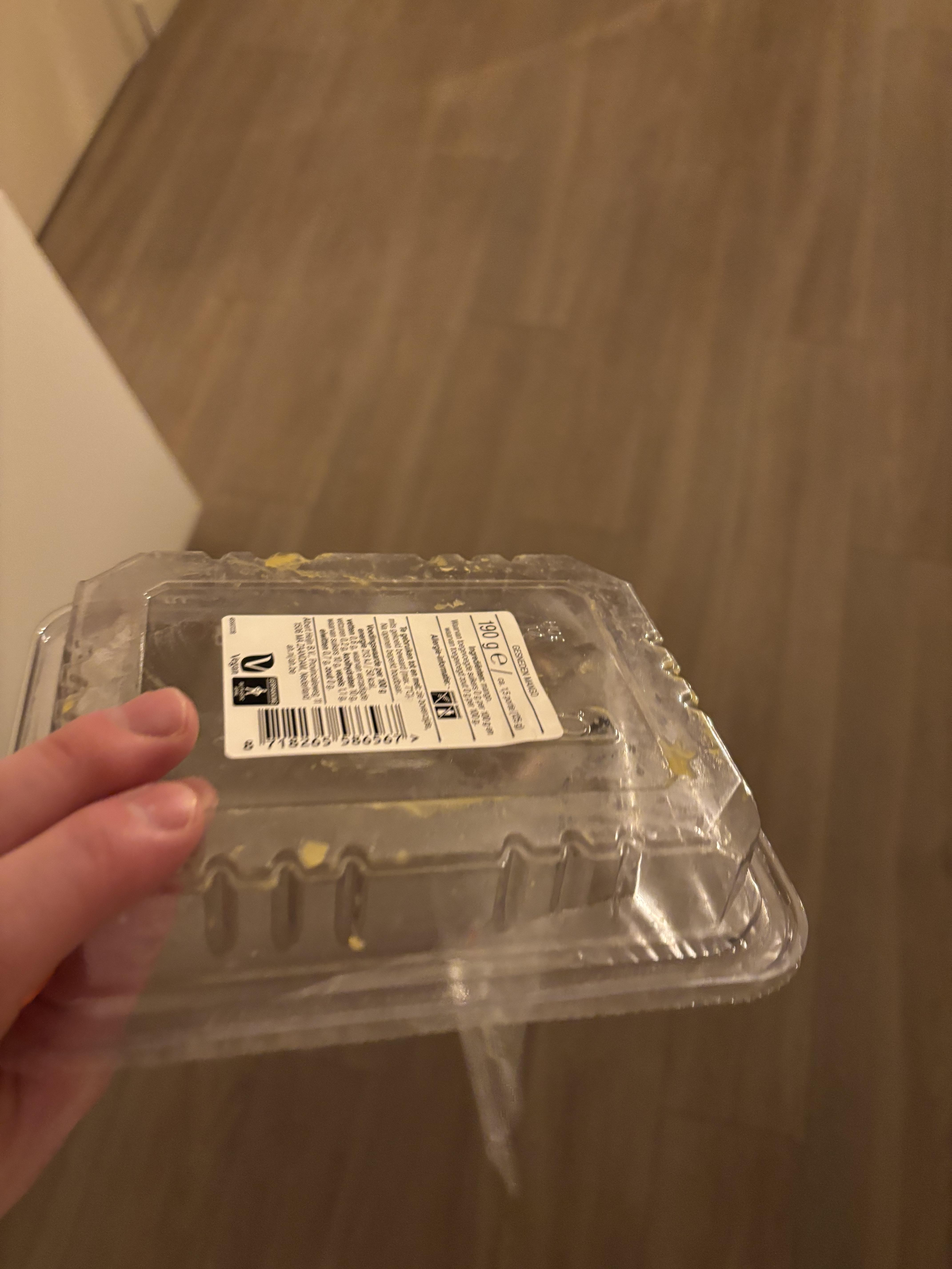Plastic: (22, 557, 824, 1202)
